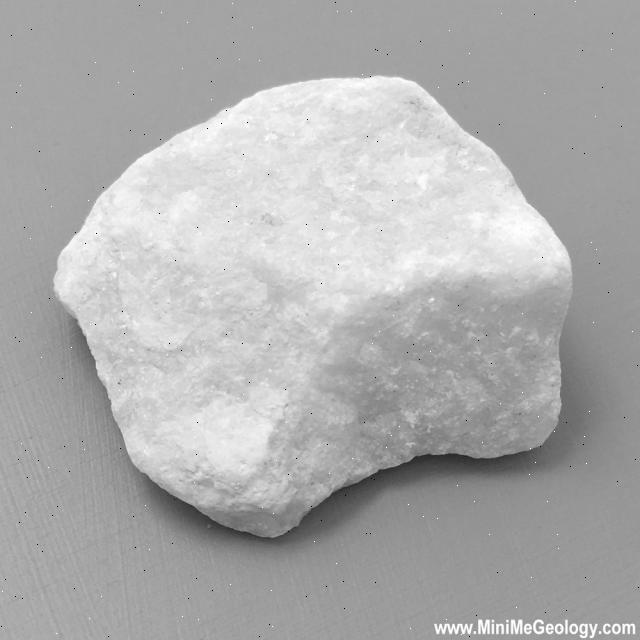Metamorphic: (65, 56, 594, 556)
